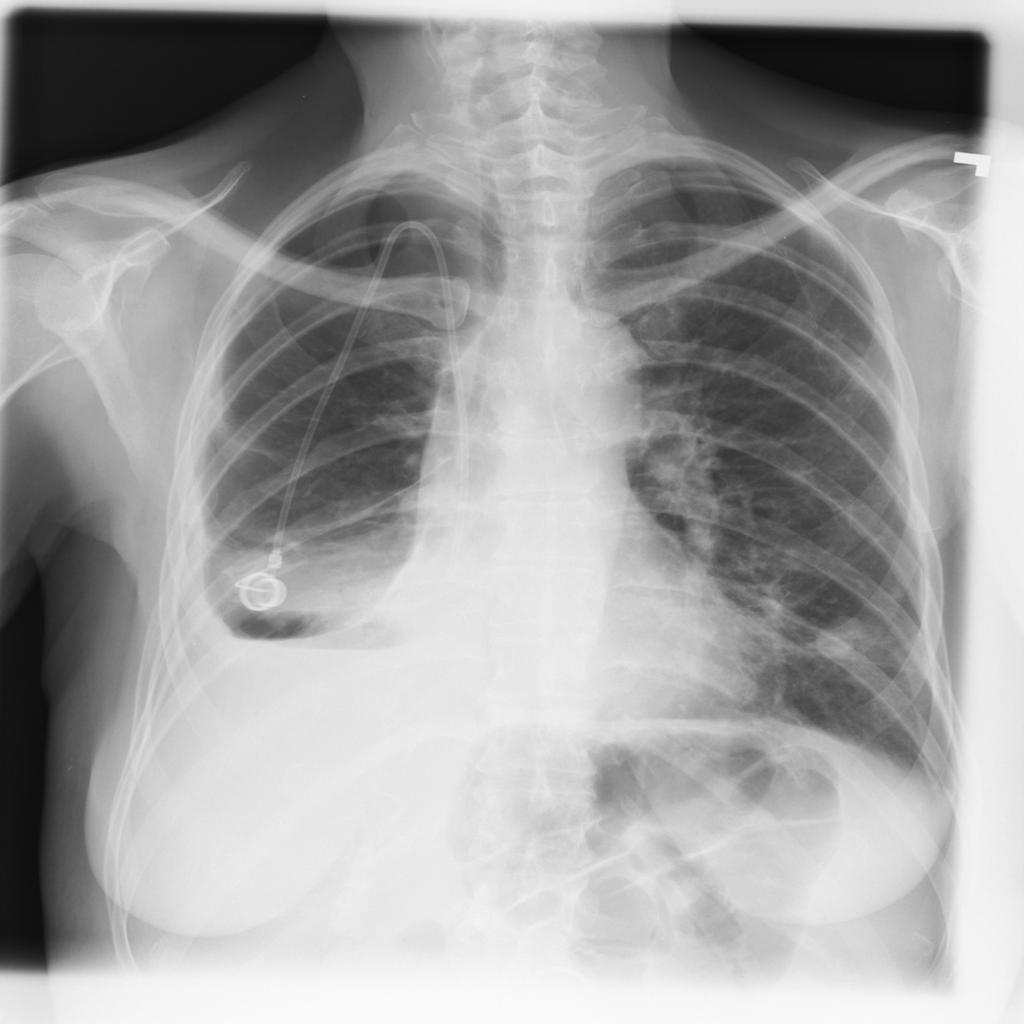nodule: (799, 607, 886, 673)
